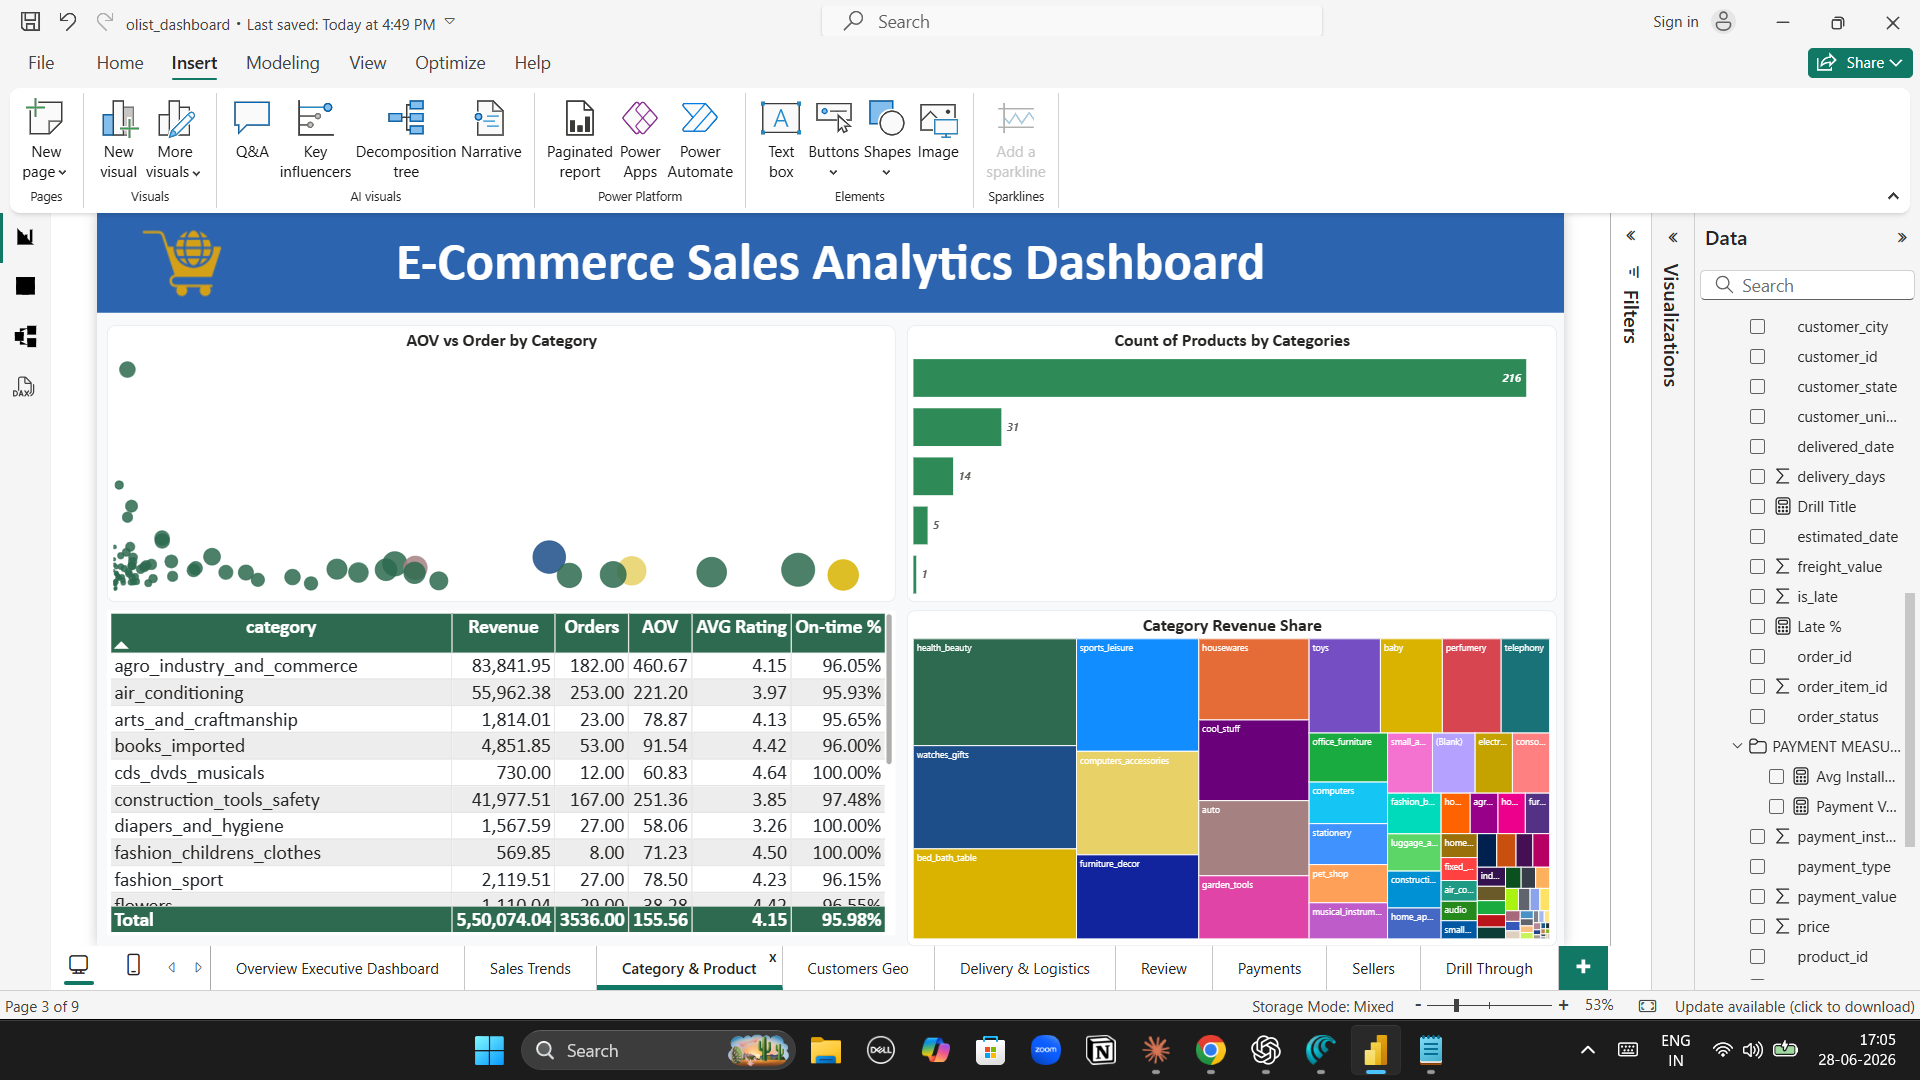

What the dashboard file says about the page in this screenshot:
{"tool":"powerbi","page":{"name":"Category & Product","canvas":[2200,1100],"ordinal":2},"visuals":[{"type":"textbox","box":[0,0,2200.8,150],"z":0},{"type":"image","box":[63.7,9.4,127.5,131.2],"z":1000},{"type":"treemap","title":"Category Revenue Share","fields":{"Group":["public bi_fact_sales.category"],"Values":["public bi_fact_sales.Revenue"]},"box":[1214,596.4,974,502.9],"z":2000},{"type":"scatterChart","title":"AOV vs Order by Category","fields":{"X":["public bi_fact_sales.Orders"],"Y":["public bi_fact_sales.AOV"],"Category":["public bi_fact_sales.category"],"Size":["public bi_fact_sales.Revenue"]},"box":[15.9,169.4,1182.2,414.7],"z":3000},{"type":"clusteredBarChart","title":"Count of Products by Categories","fields":{"Category":["public bi_fact_sales.category"],"Y":["Count(public bi_fact_sales.product_id)"]},"box":[1214,169.4,974,414.7],"z":4000},{"type":"tableEx","fields":{"Values":["public bi_fact_sales.category","public bi_fact_sales.Revenue","public bi_fact_sales.Orders","public bi_fact_sales.AOV","public bi_fact_sales.AVG Rating","public bi_fact_sales.On-time %"]},"box":[15.9,596.4,1182.2,487],"z":5000}]}

Visuals, with their boxes on the page's 2200x1100 design canvas (x1, y1, x2, y2). These are canvas units, not pixel positions in the 1920x1080 screenshot, which may show the page scaled, cropped or inside an application window:
textbox: <box>0,0,2201,150</box>
image: <box>64,9,191,141</box>
"Category Revenue Share" treemap: <box>1214,596,2188,1099</box>
"AOV vs Order by Category" scatterChart: <box>16,169,1198,584</box>
"Count of Products by Categories" clusteredBarChart: <box>1214,169,2188,584</box>
tableEx - public bi_fact_sales.category x public bi_fact_sales.Revenue: <box>16,596,1198,1083</box>
